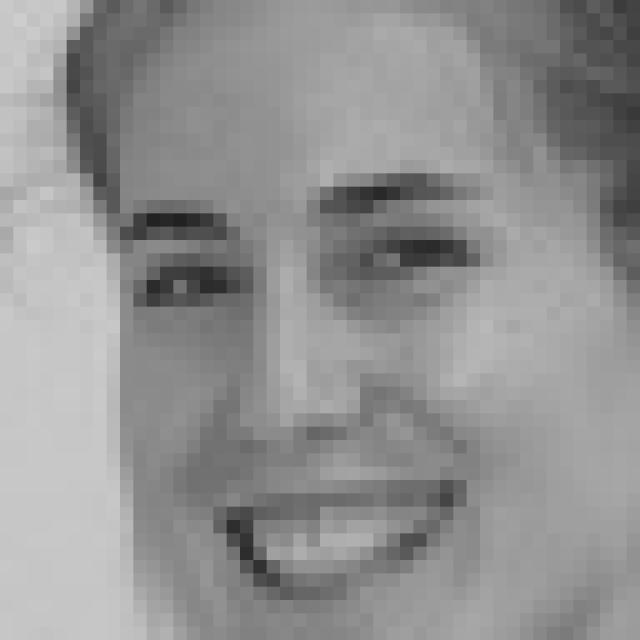happy: (120, 154, 516, 610)
